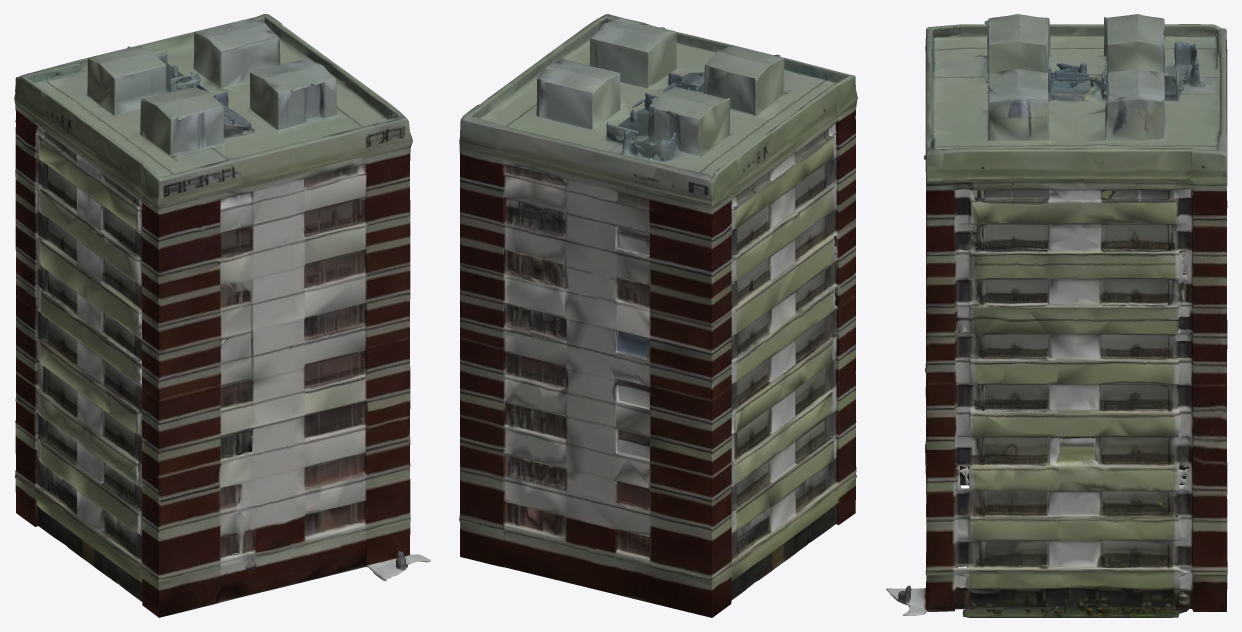
File: apartment-building.glb
The picture shows the model from 3 angles, left to right: view 1: azimuth 30°, elevation 25°; view 2: azimuth 150°, elevation 25°; view 3: azimuth 270°, elevation 25°; orthographic projection. The views are drawn at different scales.
Visible parts, largest first — view 1: tripo_node_2fe8b6a4-bce4-4143-af1d-268e871e414c; view 2: tripo_node_2fe8b6a4-bce4-4143-af1d-268e871e414c; view 3: tripo_node_2fe8b6a4-bce4-4143-af1d-268e871e414c.
Boxes of the visible parts, bbox=[...] form: tripo_node_2fe8b6a4-bce4-4143-af1d-268e871e414c: bbox=[14, 14, 430, 617]; tripo_node_2fe8b6a4-bce4-4143-af1d-268e871e414c: bbox=[459, 14, 857, 617]; tripo_node_2fe8b6a4-bce4-4143-af1d-268e871e414c: bbox=[886, 14, 1227, 617].
Bounding box in the file's own units: 0.59 × 0.9998 × 0.6284.
1 material, 1 textured.
